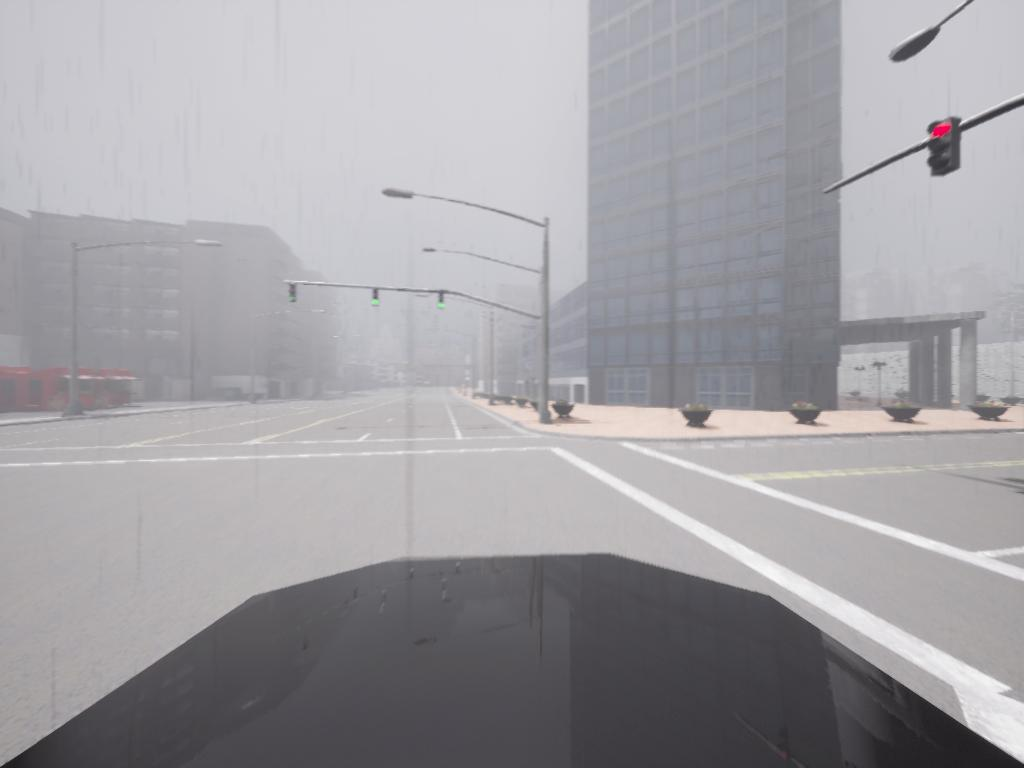traffic_light: (929, 119, 963, 182), (286, 286, 301, 309), (437, 294, 448, 310), (372, 293, 382, 309)
